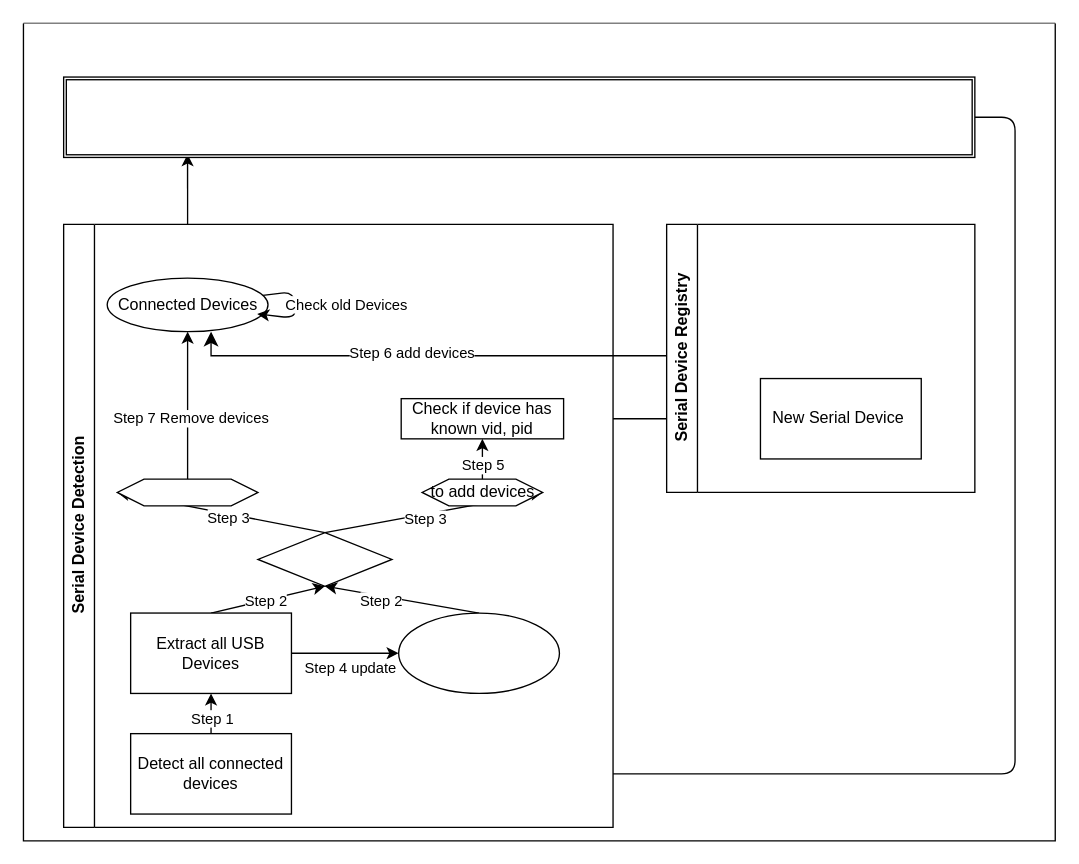
This 1079x864 diagram has some shape labels left out. Here are the shapes that lost their labels. From the top down, the box of each, then its label:
(62, 76, 975, 157): Init Loop
(116, 478, 258, 506): to delete devices
(257, 531, 392, 586): Compare
(397, 612, 559, 693): Previous detected usb devices
